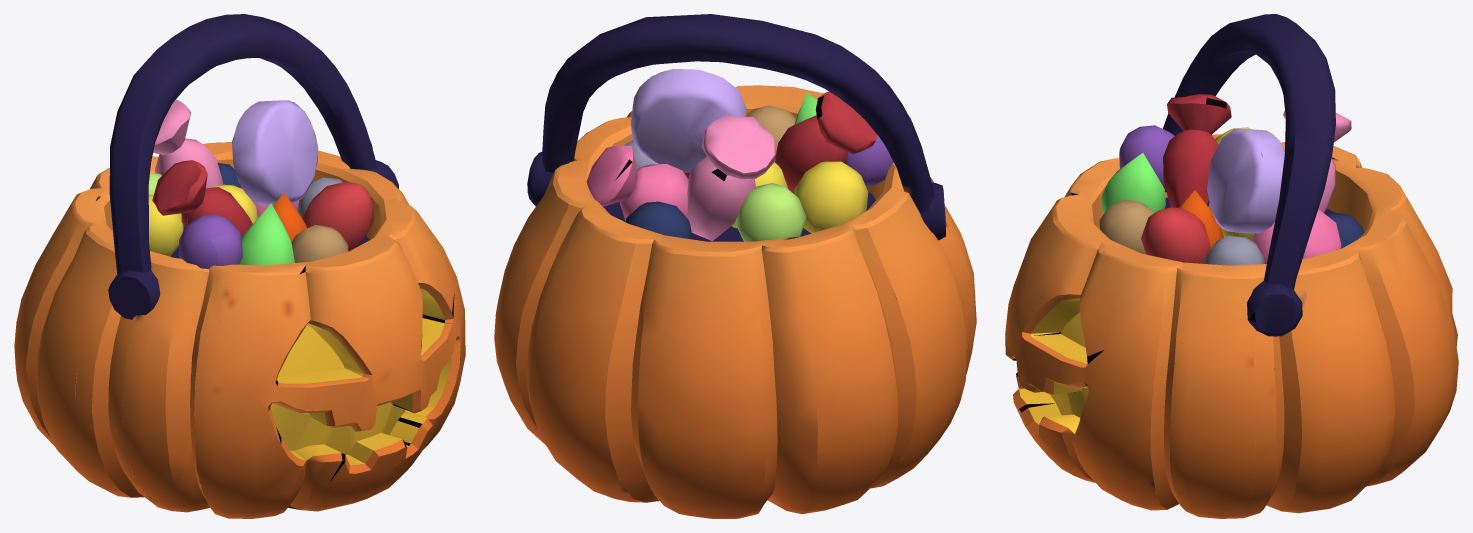
File: kit-candy-bucket.glb
The picture shows the model from 3 angles, left to right: view 1: azimuth 30°, elevation 25°; view 2: azimuth 150°, elevation 25°; view 3: azimuth 270°, elevation 25°; orthographic projection. The views are drawn at different scales.
Parts seen in each view (by area): view 1: WBA_CandyBucket_Set_01_WBA_MAT_Halloween_Atlas_0.001; view 2: WBA_CandyBucket_Set_01_WBA_MAT_Halloween_Atlas_0.001; view 3: WBA_CandyBucket_Set_01_WBA_MAT_Halloween_Atlas_0.001.
Boxes of the visible parts, x1,y1,x2,y2 form: WBA_CandyBucket_Set_01_WBA_MAT_Halloween_Atlas_0.001: [14, 14, 465, 518]; WBA_CandyBucket_Set_01_WBA_MAT_Halloween_Atlas_0.001: [494, 14, 976, 518]; WBA_CandyBucket_Set_01_WBA_MAT_Halloween_Atlas_0.001: [1005, 14, 1458, 518].
Size of the model in its own units: 0.2684 by 0.2827 by 0.2738.
Materials: 1 (1 with a texture image).
